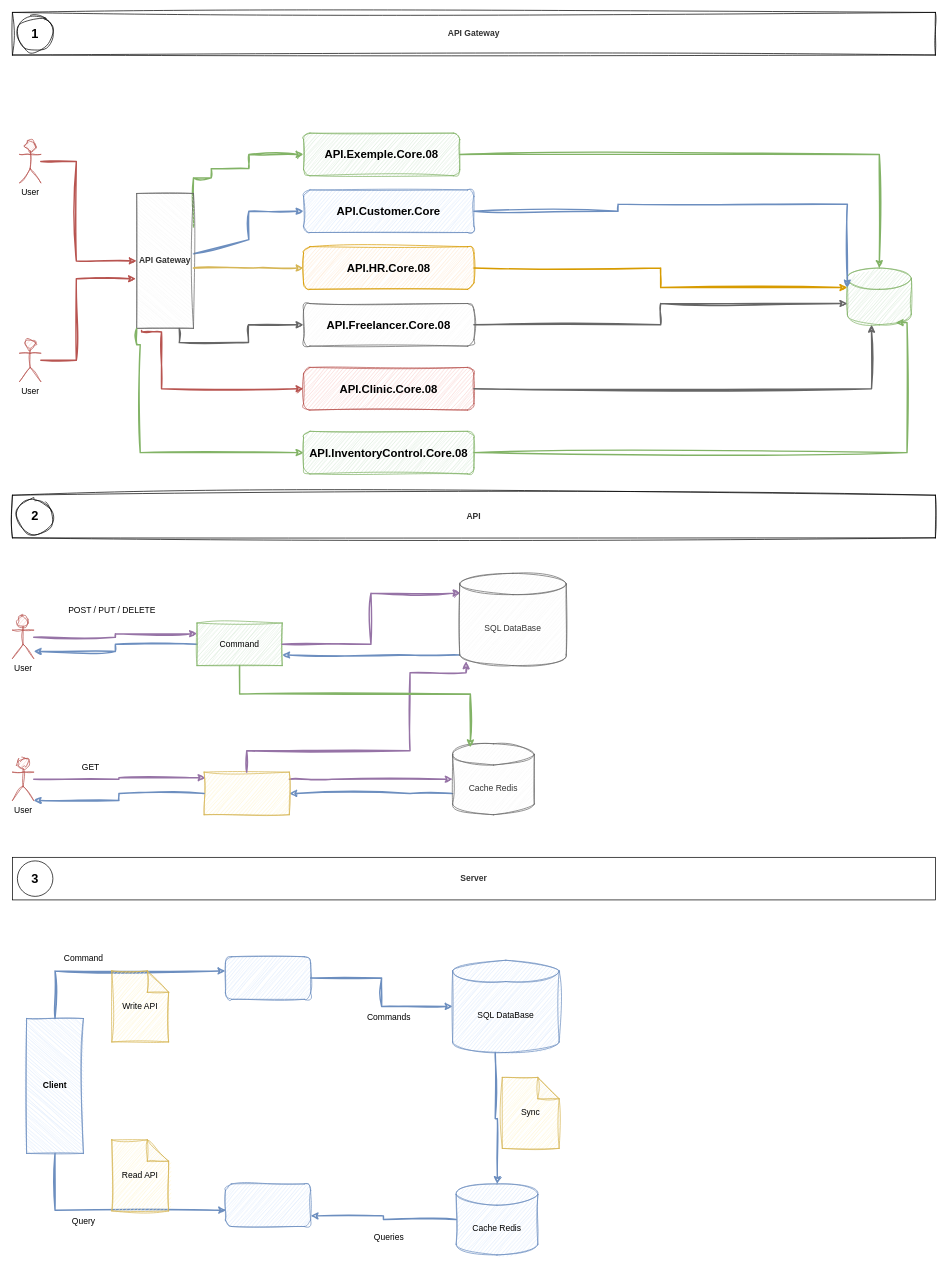
The diagram is 948 pixels wide and 1267 high, and some of its shapes have lost their labels. The centre of each missing label's shape, as x and y in pixels:
"Domain Model" goes at [268,977].
"Query Handler" goes at [246,793].
"Read Queries" goes at [268,1205].
"SQL Server" goes at [879,296].
